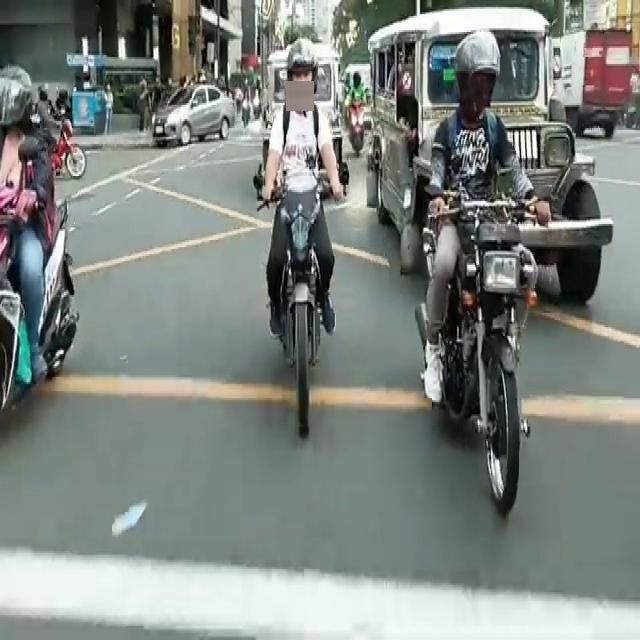car: (160, 88, 236, 145)
jeepney: (364, 26, 599, 289)
motorcycle: (426, 83, 526, 473), (260, 92, 340, 452), (0, 88, 58, 402)
